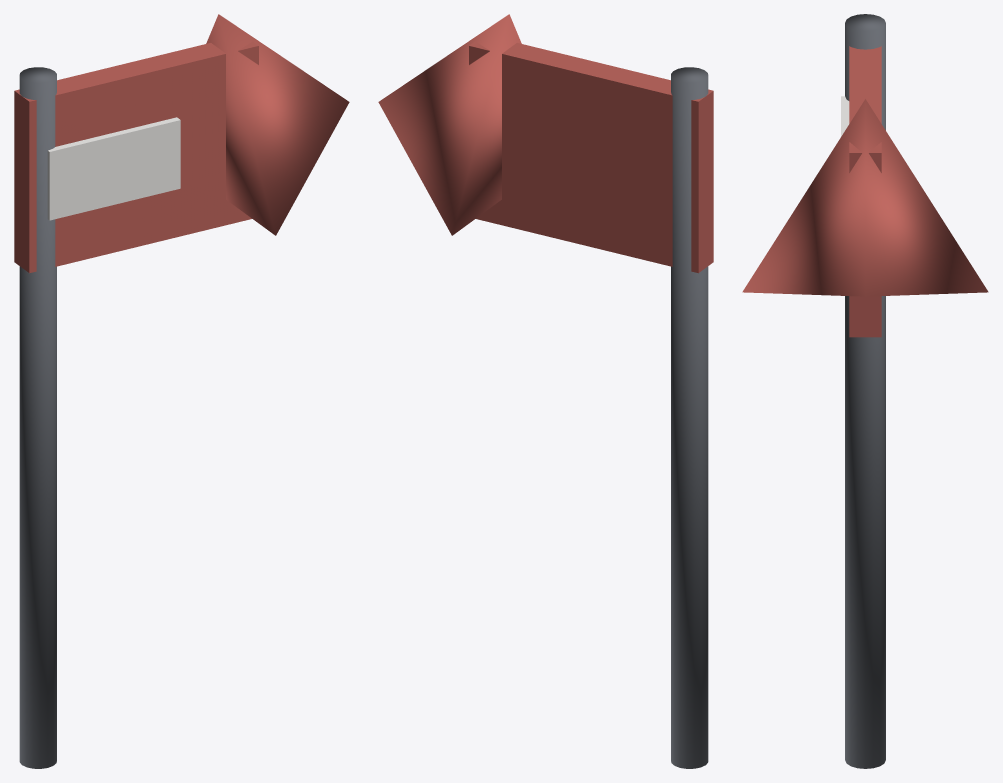
Rendered from prop_tate_arrow_r.glb.
3 views of the same model, side by side, from view 1: azimuth 30°, elevation 25°; view 2: azimuth 150°, elevation 25°; view 3: azimuth 270°, elevation 25° (orthographic). The views are drawn at different scales.
Visible parts, largest first — view 1: tate_arrow_r; view 2: tate_arrow_r; view 3: tate_arrow_r.
Boxes of the visible parts, x1=… form: tate_arrow_r: x1=14, y1=14, x2=349, y2=768; tate_arrow_r: x1=378, y1=14, x2=713, y2=768; tate_arrow_r: x1=742, y1=14, x2=988, y2=768.
Size of the model in its own units: 1 by 2.05 by 0.6062.
